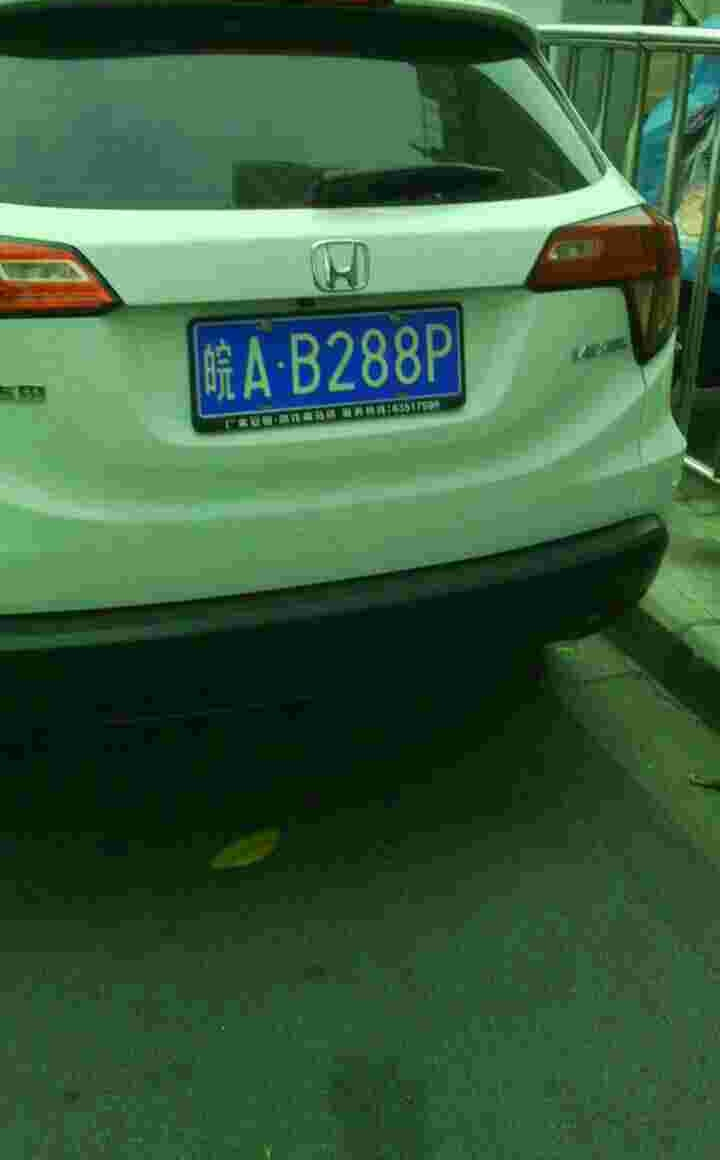car: (184, 304, 475, 404)
